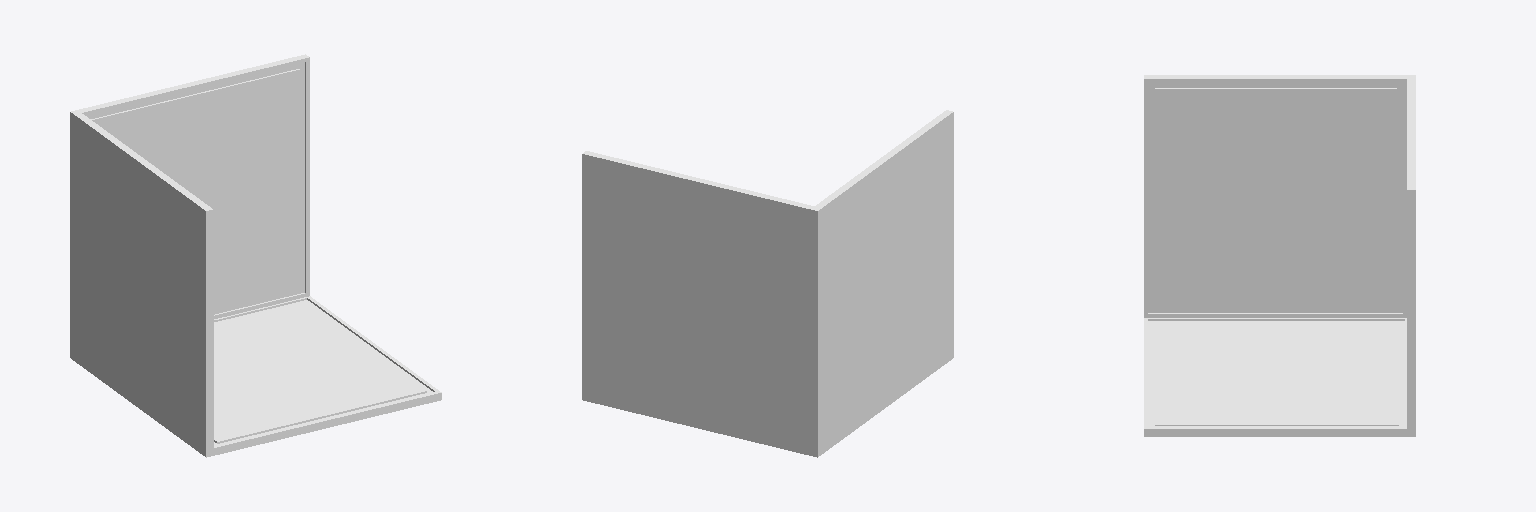
The model's file is WallFloorCornerTile.obj.
3 renders of one model, left to right at view 1: azimuth 30°, elevation 25°; view 2: azimuth 150°, elevation 25°; view 3: azimuth 270°, elevation 25°, orthographic.
Parts seen in each view (by area): view 1: object 1; view 2: object 1; view 3: object 1.
Part boxes in pixels (x1,y1,x2,y2): object 1: (70,54,441,457); object 1: (582,110,953,457); object 1: (1144,75,1415,436).
Size of the model in its own units: 12.8 by 12.8 by 12.8.